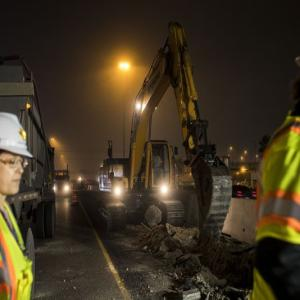white: (2, 111, 29, 197)
